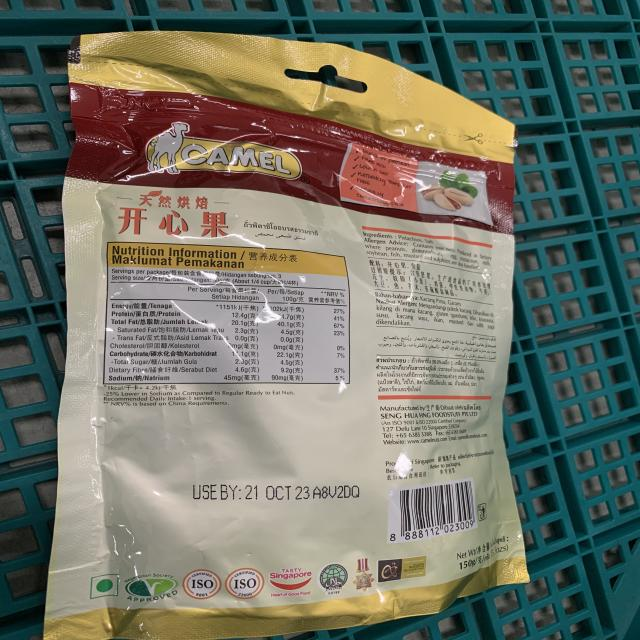object_name: (71, 42, 508, 632)
